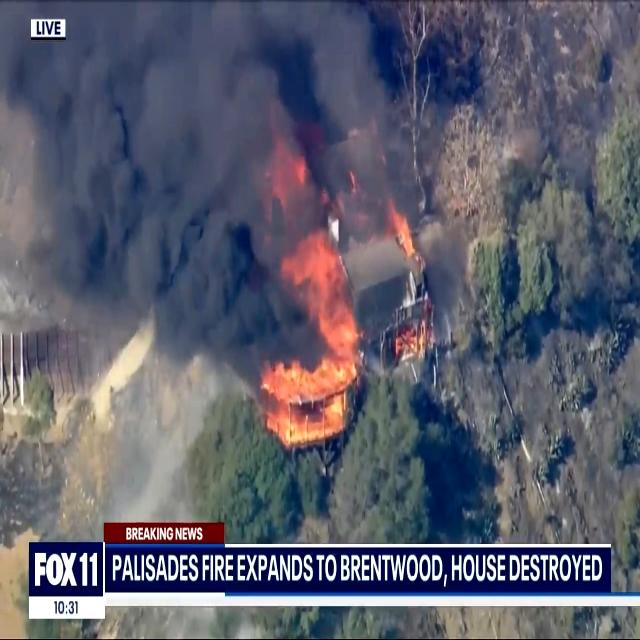no_helmet: (48, 41, 323, 370)
